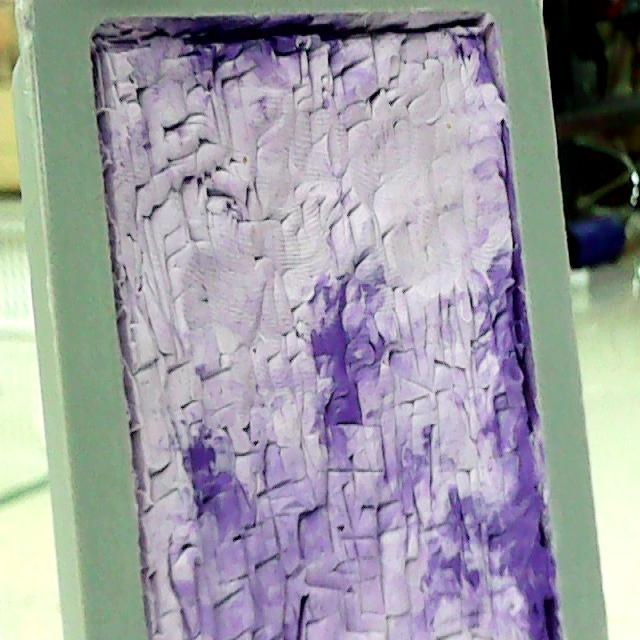block: (10, 5, 615, 636)
